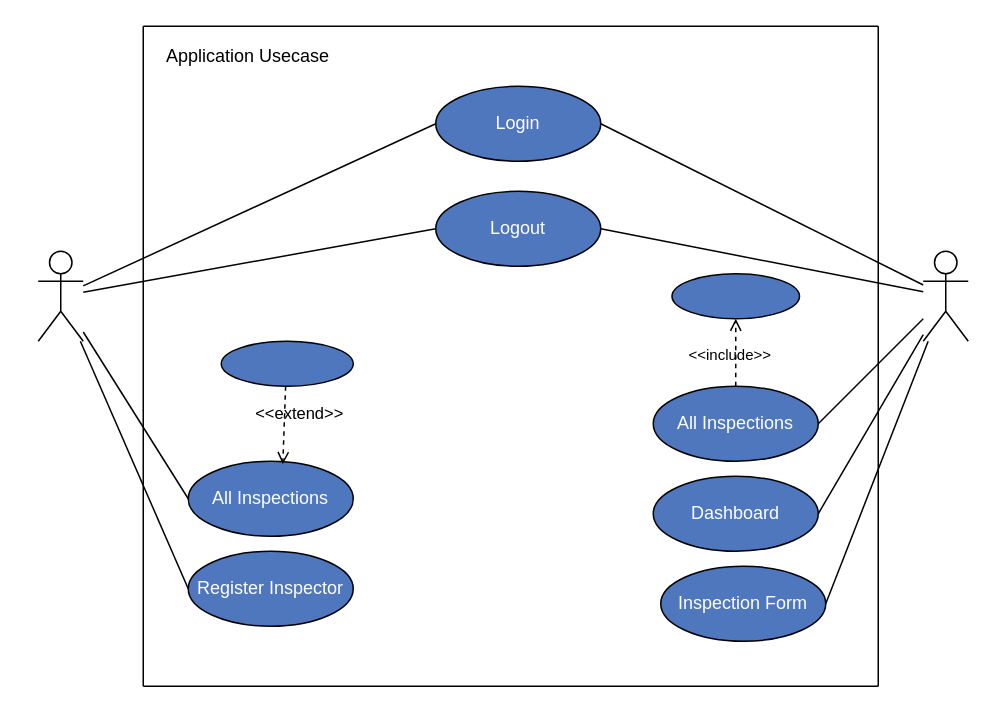
Some shapes in this 1008 by 714 pixel diagram are drawn without their labels. Each missing label, with the box of its shape:
Inspector: (922, 250, 968, 341)
Manager: (37, 250, 83, 341)
Only views: (220, 340, 353, 386)
Views and Edit: (670, 272, 800, 319)
